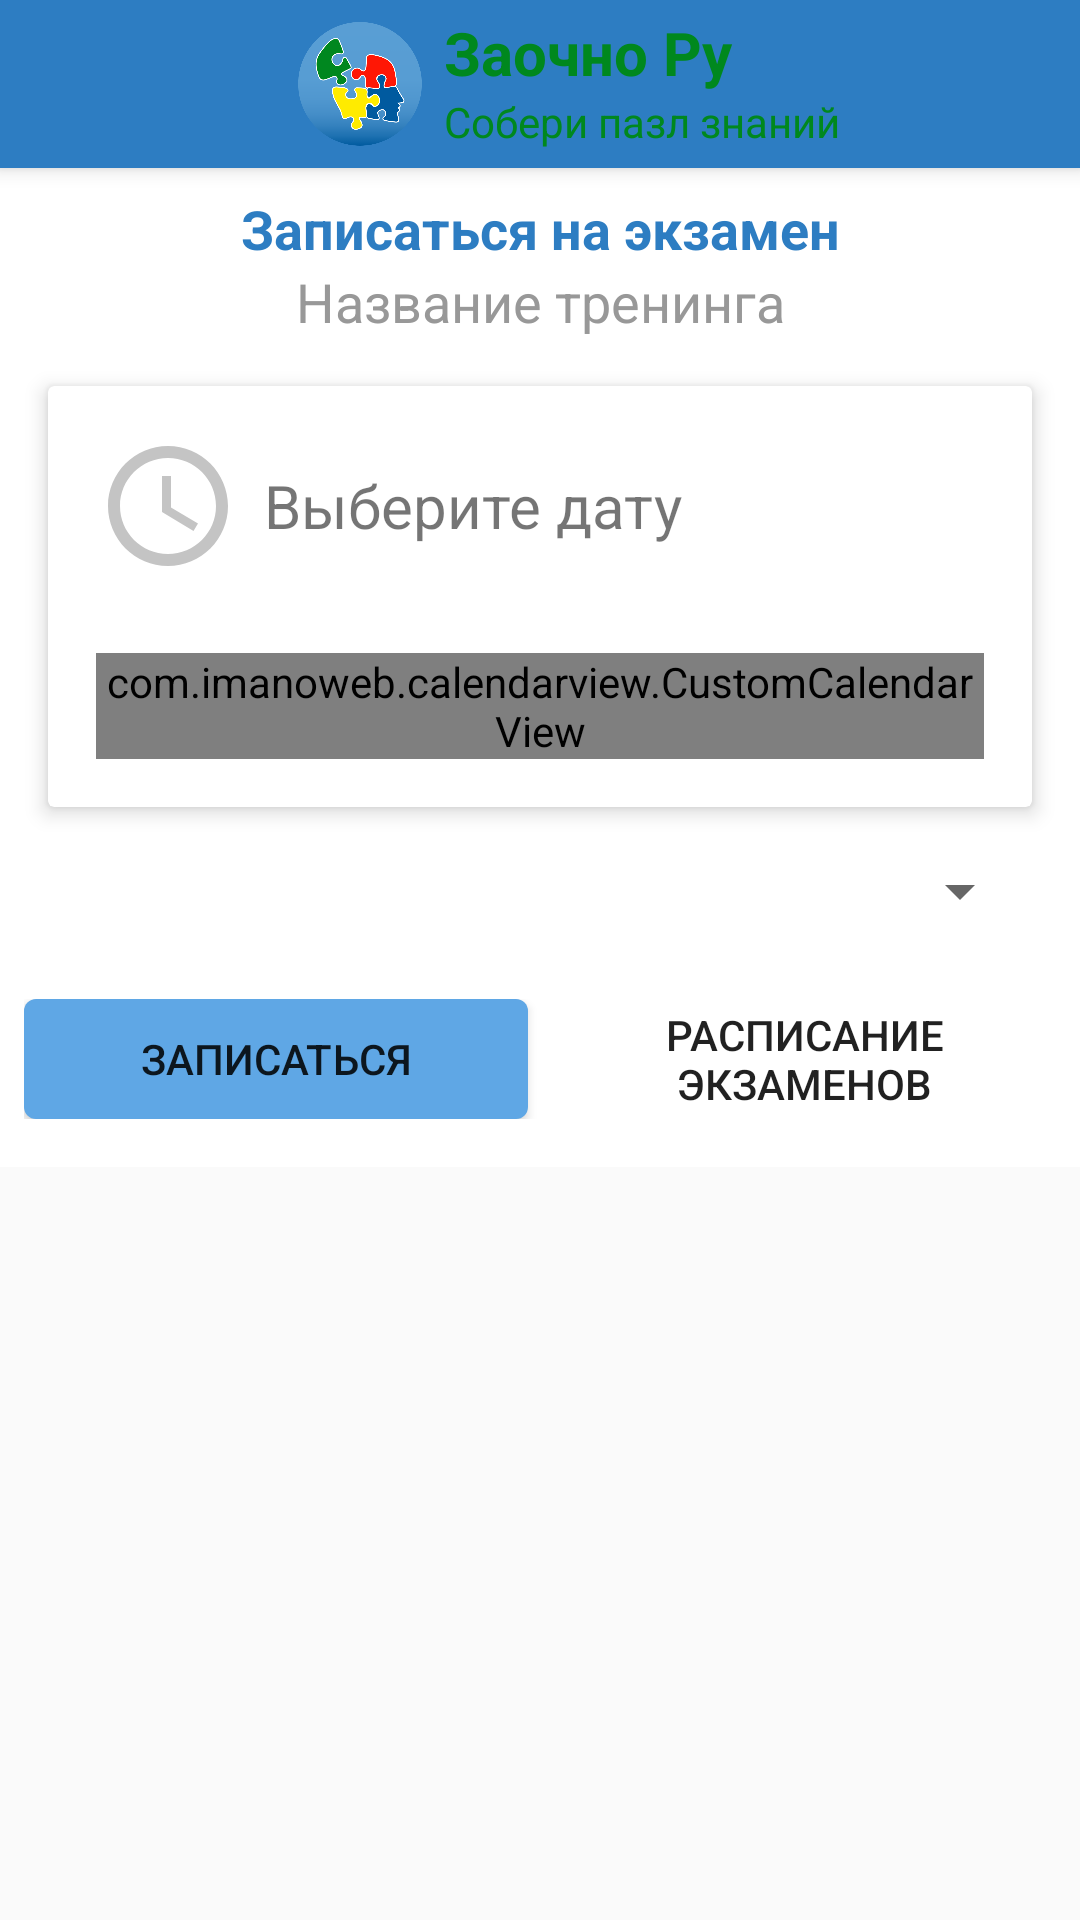

Screen size 1080 x 1920. Icon name, then its center in pixels as (x=x, y=y):
access time: (x=168, y=506)
